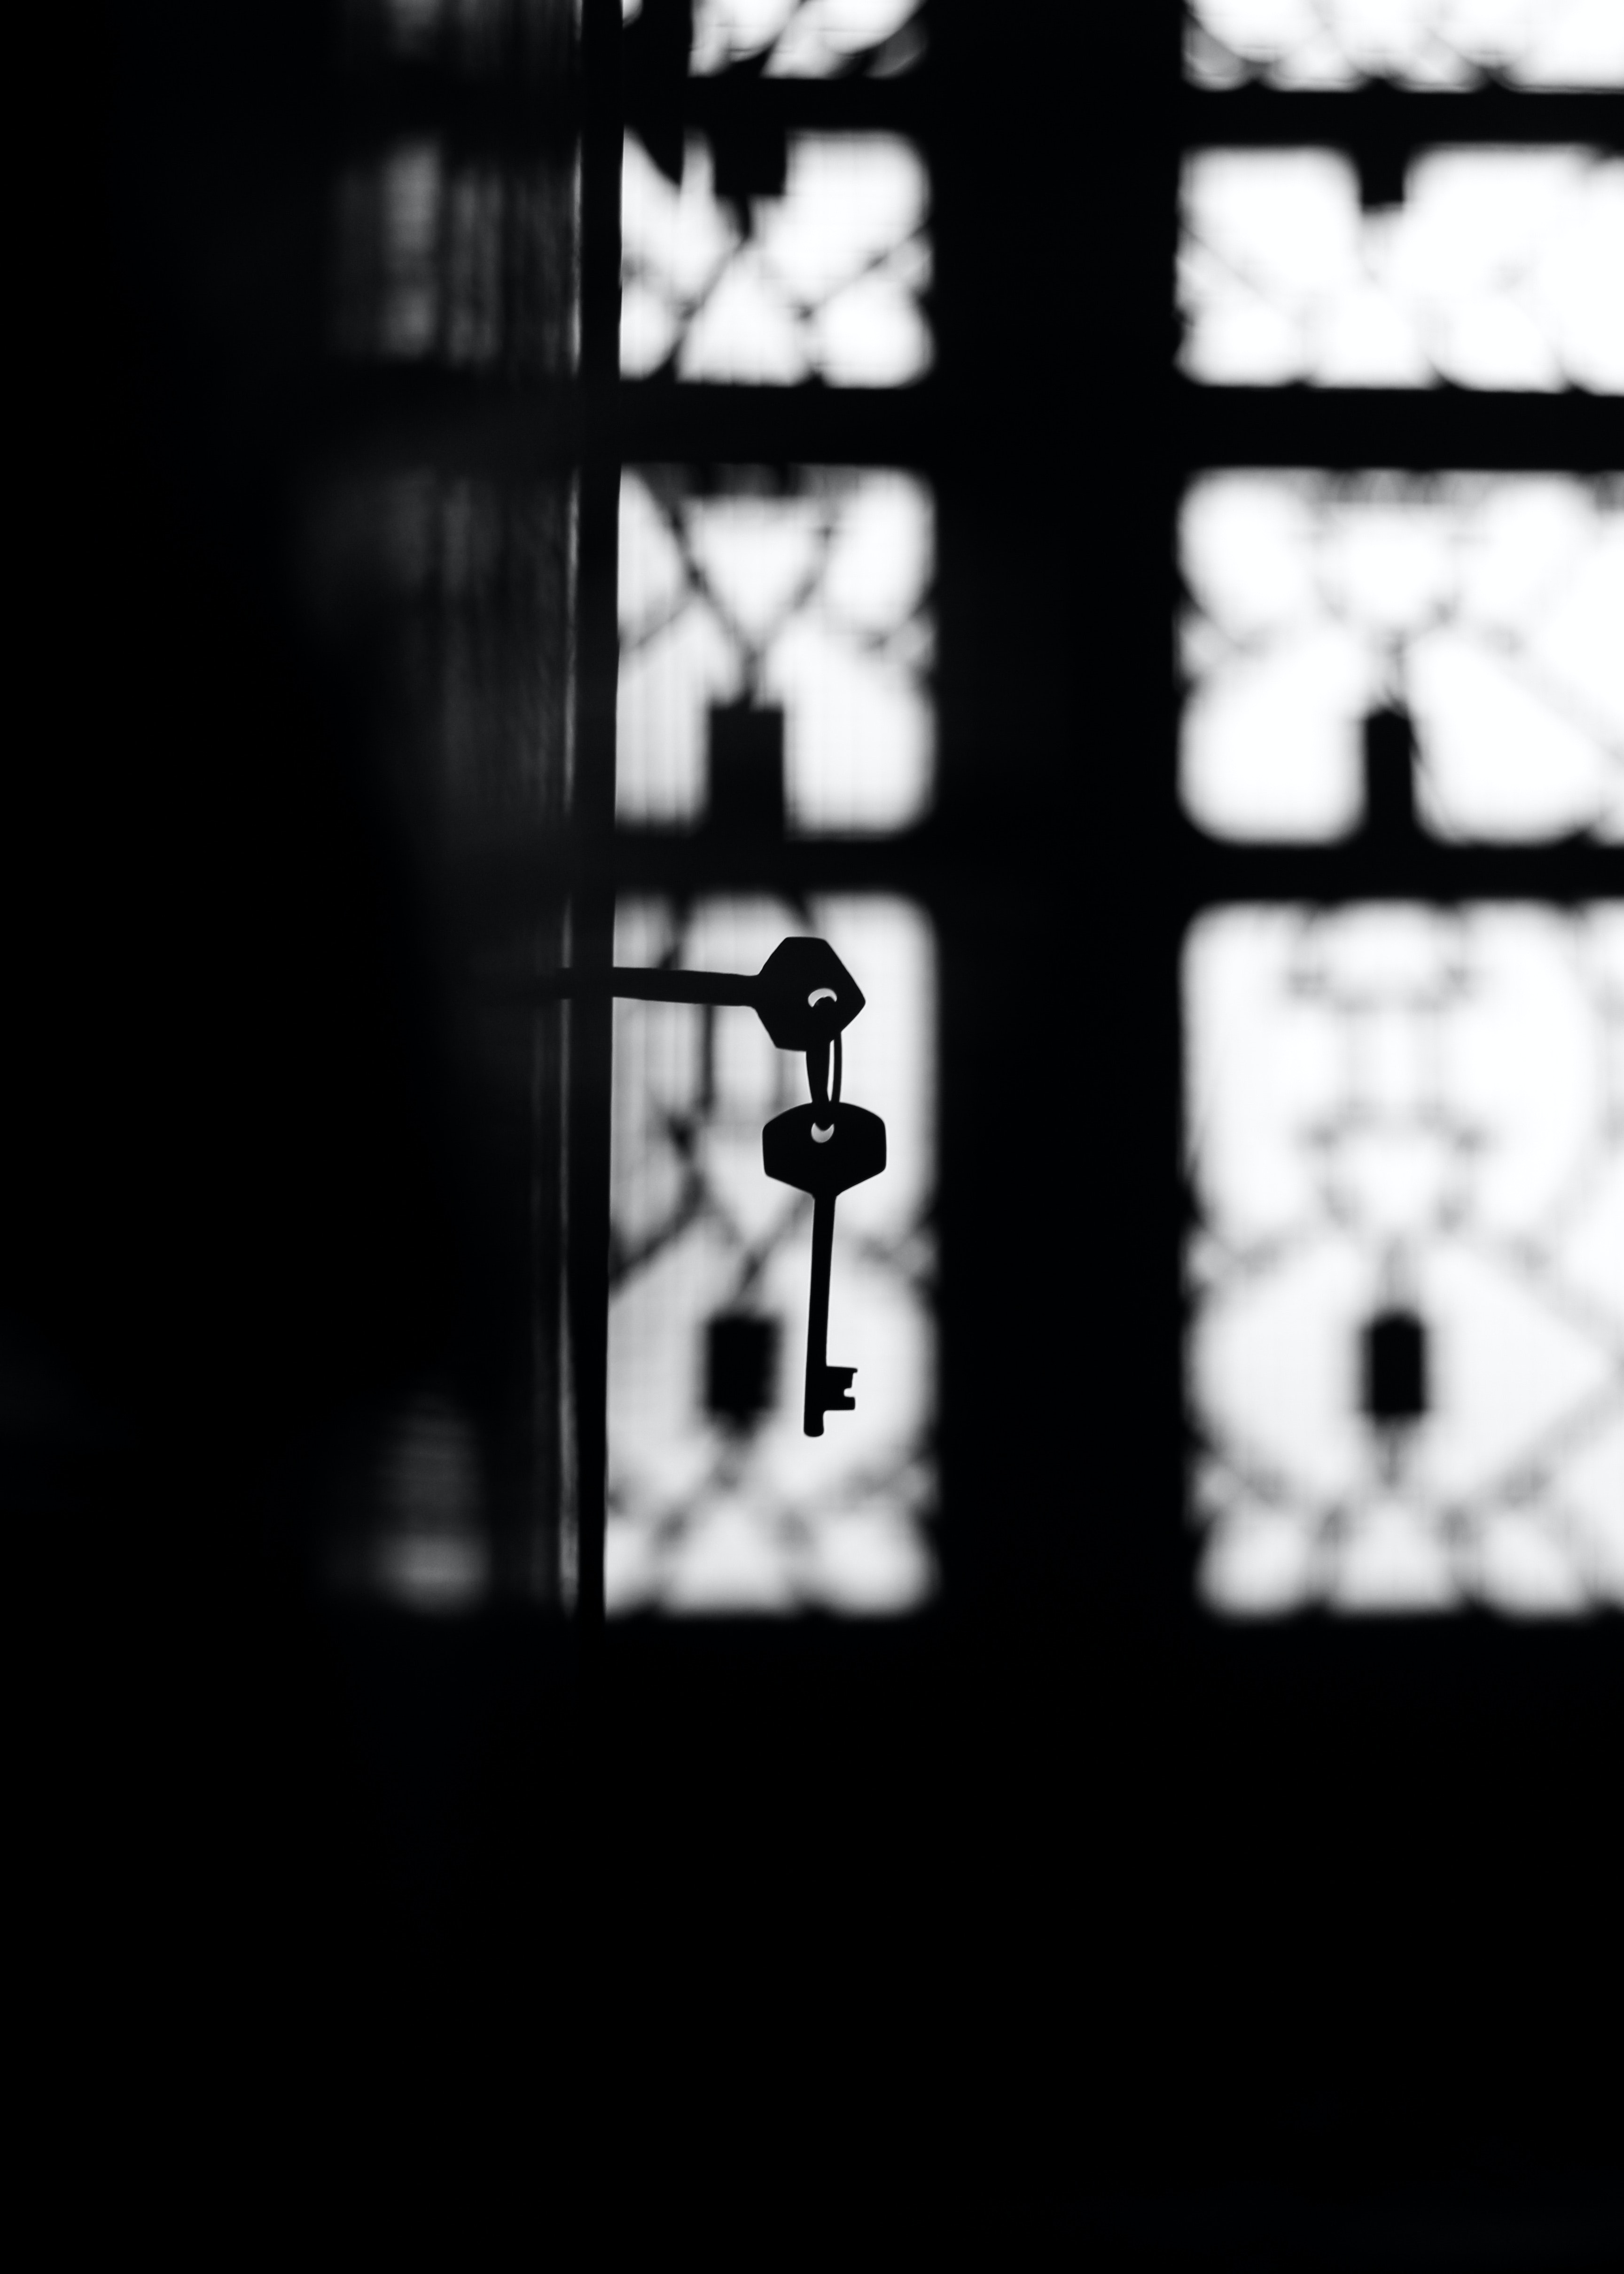key: (714, 1075, 937, 1480)
